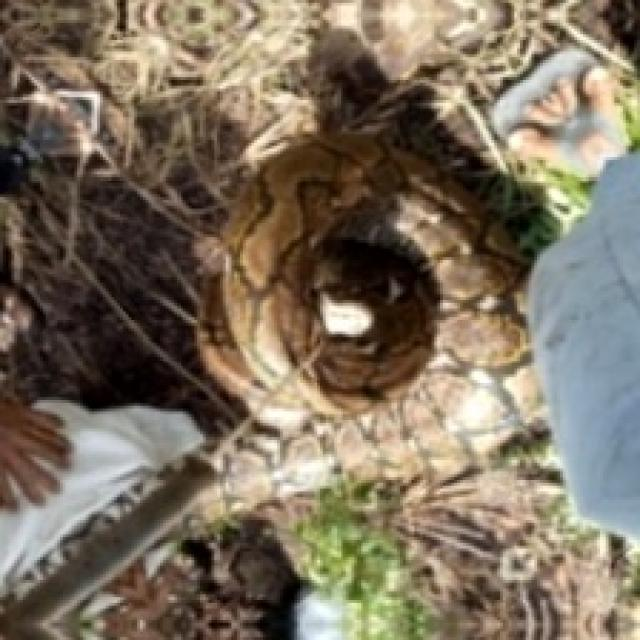reticulated python: (185, 92, 544, 539)
